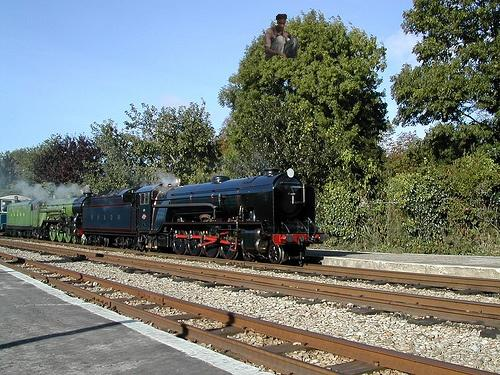tampered: (264, 15, 298, 61)
